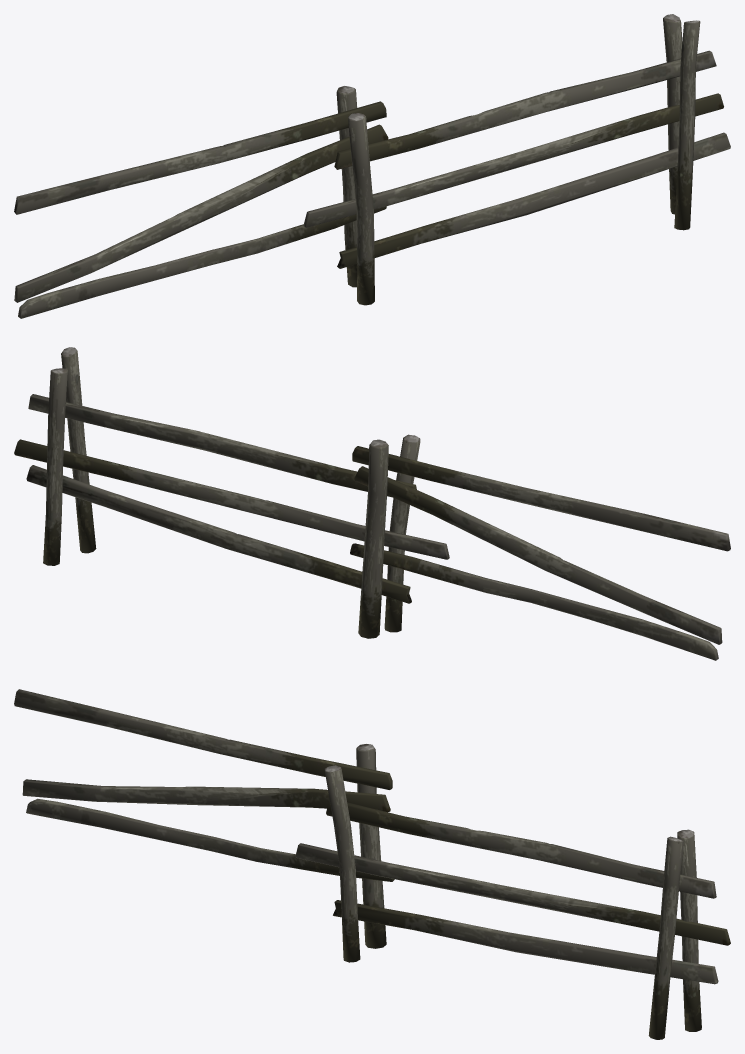
Rendered from Stage_Obj011.fbx.
3 renders of one model, top to bottom at view 1: azimuth 30°, elevation 25°; view 2: azimuth 150°, elevation 25°; view 3: azimuth 330°, elevation 25°, orthographic.
Parts seen in each view (by area): view 1: SM_SampleGame_Fence003; view 2: SM_SampleGame_Fence003; view 3: SM_SampleGame_Fence003.
Boxes of the visible parts, x1,y1,x2,y2 form: SM_SampleGame_Fence003: (14, 14, 730, 318); SM_SampleGame_Fence003: (14, 347, 730, 660); SM_SampleGame_Fence003: (14, 689, 730, 1039).
Bounding box in the file's own units: 281 × 76.55 × 21.2.
1 material, 1 textured.
